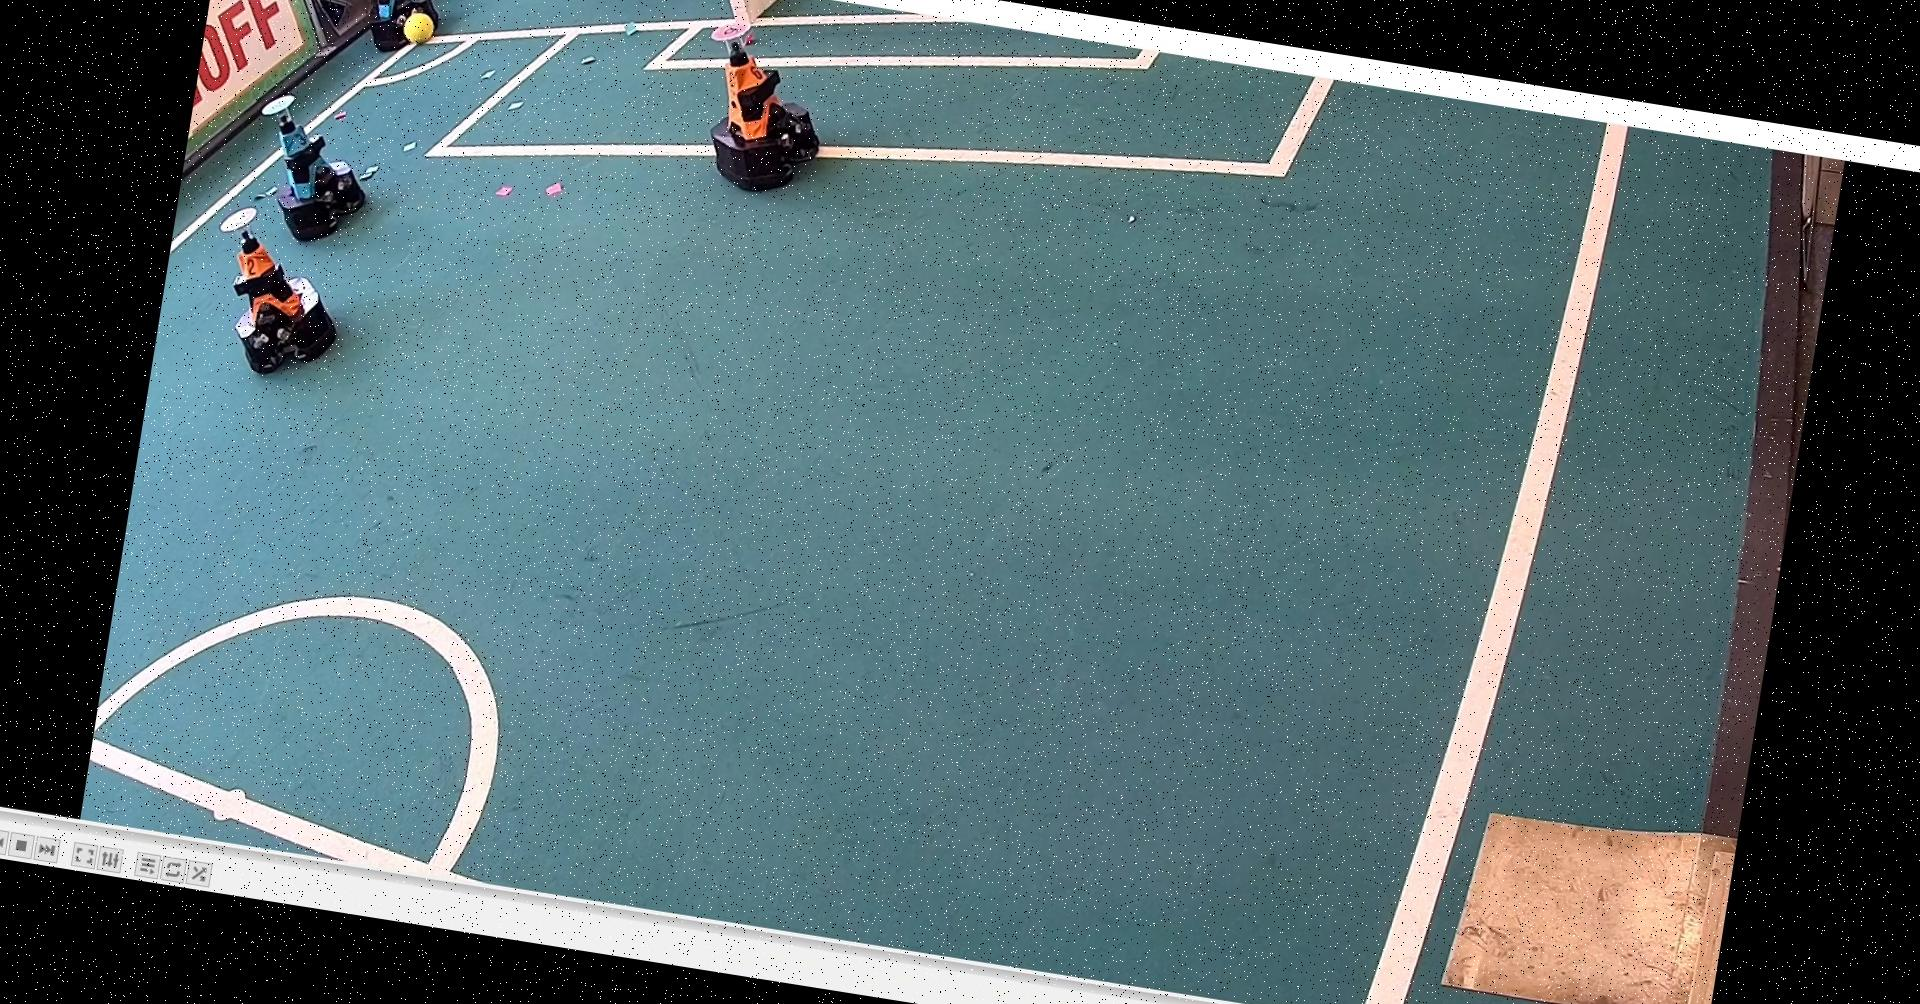Ball: (399, 10, 437, 46)
Team_Blue: (248, 81, 386, 245), (344, 0, 463, 65)
Team_Red: (670, 5, 851, 203), (196, 195, 357, 378)
